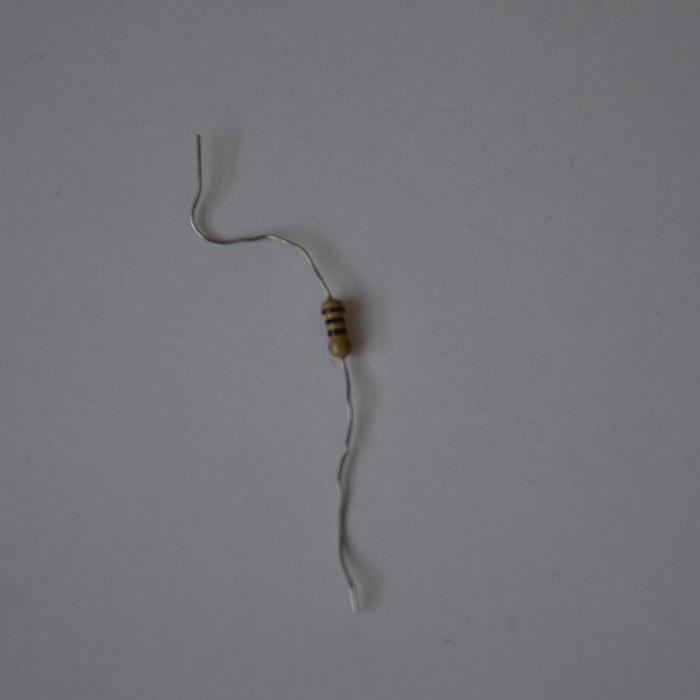resistor: (319, 295, 350, 358)
